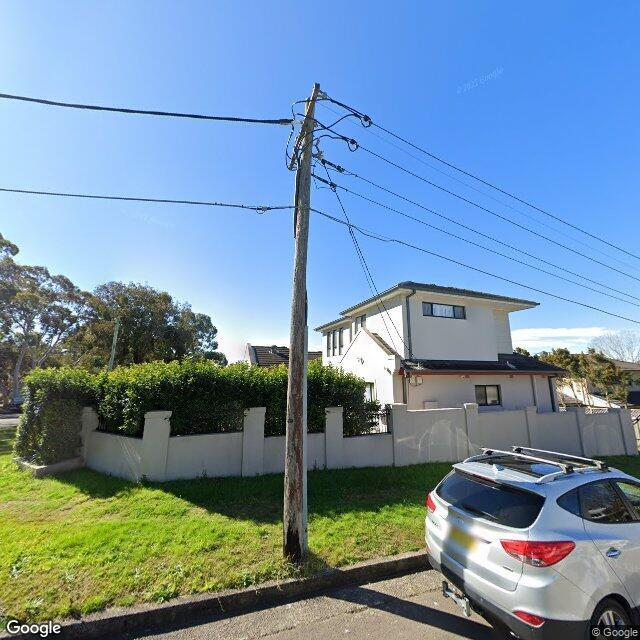crossarm: (286, 81, 322, 171)
timber-pole: (282, 95, 316, 559)
